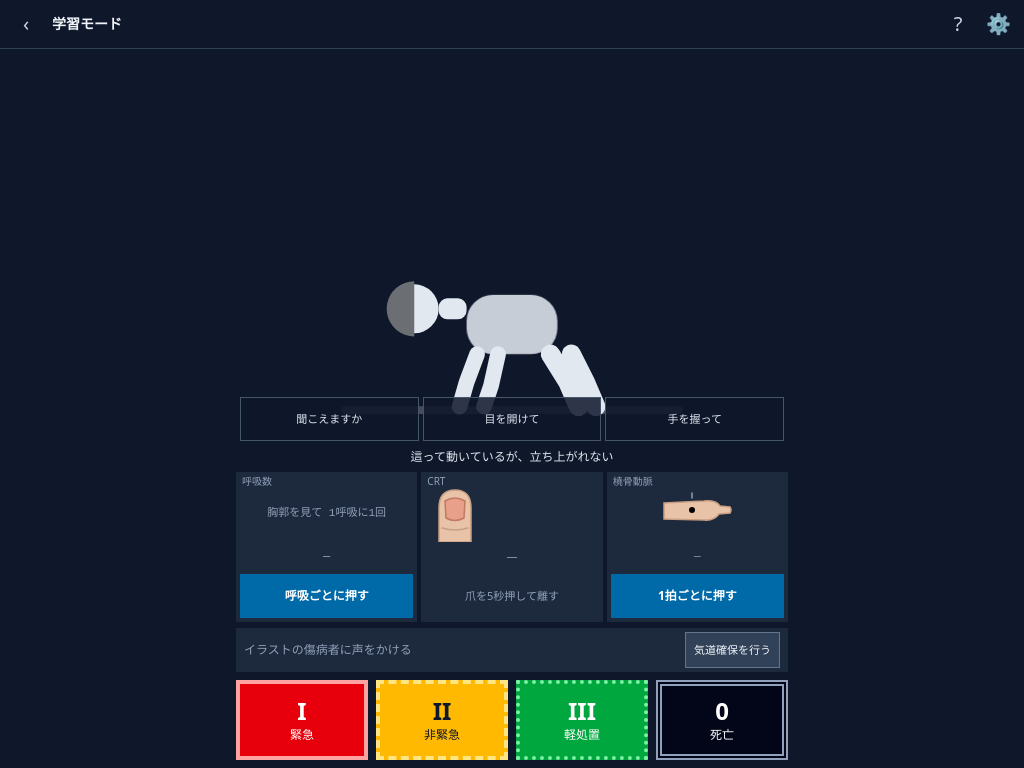
it: 計測ボタンの文言 › 押しても推定が出ない間、理由を示す
Click the button "呼吸ごとに押す".
click(327, 596)  # box [240,574,413,618]
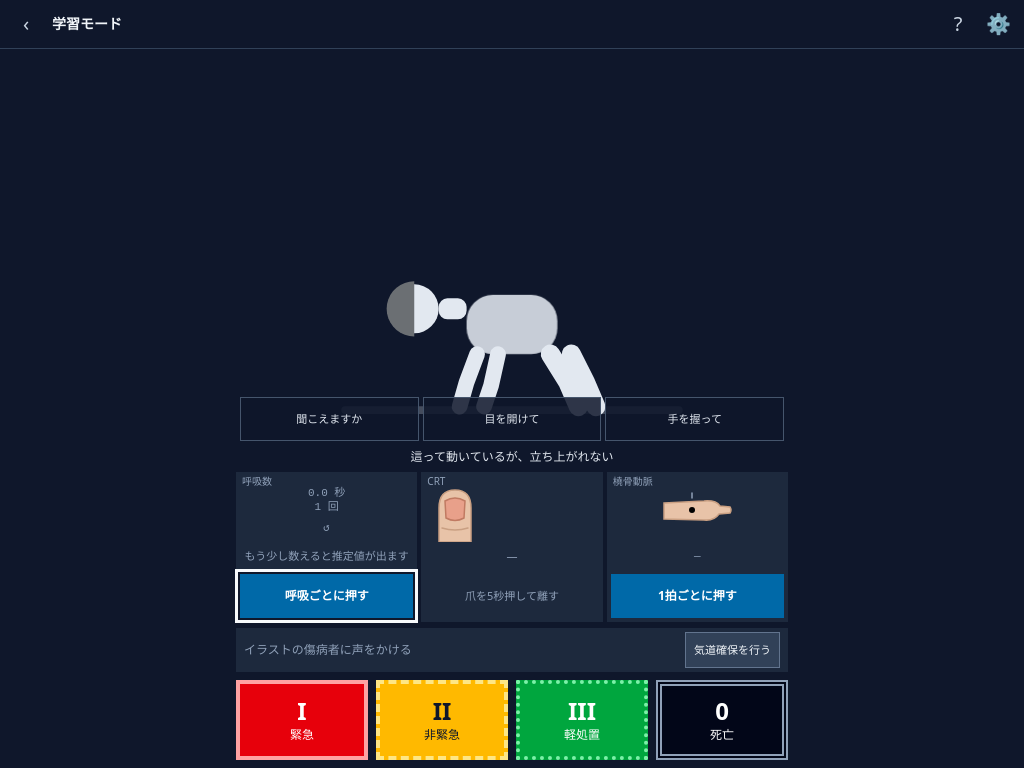
Check: the text "もう少し数えると推定値が出ます" is shown, box [244,548,409,563]
